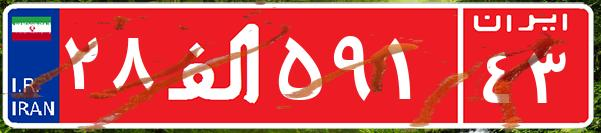1: (385, 28, 445, 110)
2: (57, 26, 110, 107)
3: (525, 38, 570, 115)
4: (475, 38, 525, 113)
5: (273, 28, 330, 110)
8: (110, 28, 158, 105)
9: (330, 28, 385, 110)
الف: (158, 15, 273, 115)
